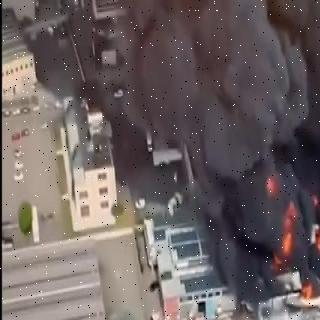smoke: (77, 0, 320, 191), (182, 194, 270, 310)
